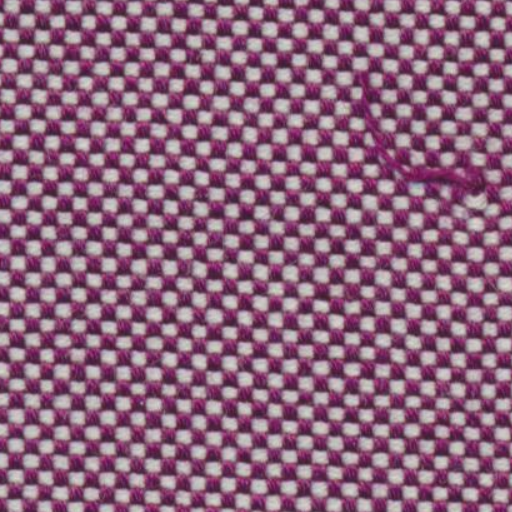DuanSha: (328, 52, 492, 204)
